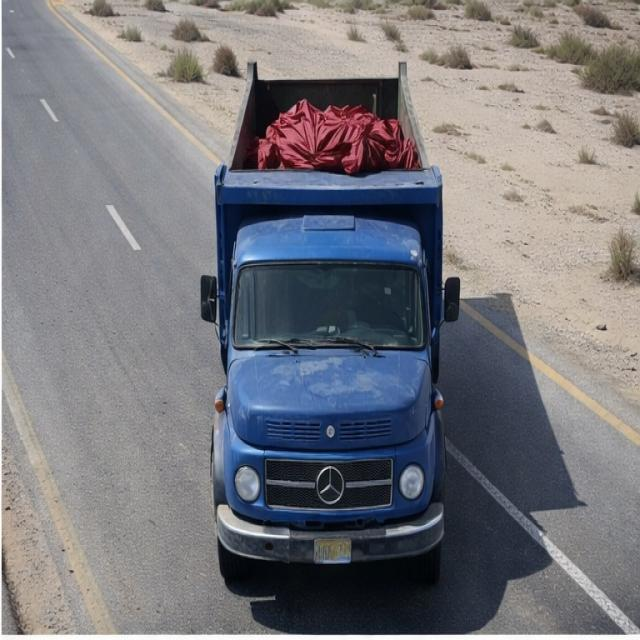Box: (216, 56, 444, 210)
Truck: (184, 40, 464, 590)
